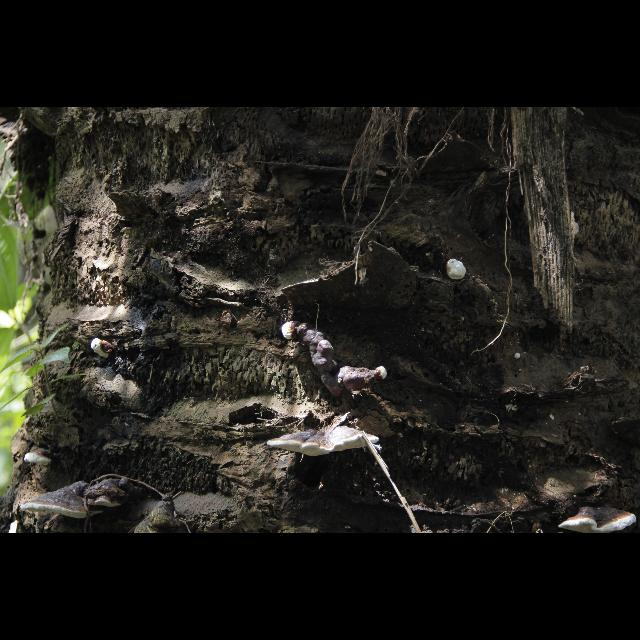ganoderma: (301, 324, 376, 398), (268, 426, 381, 458), (21, 482, 105, 520), (559, 508, 638, 535), (85, 479, 139, 509), (25, 450, 61, 467)
primordium: (92, 339, 116, 359), (447, 260, 467, 281), (282, 322, 300, 341), (376, 367, 388, 381), (515, 354, 521, 360)
